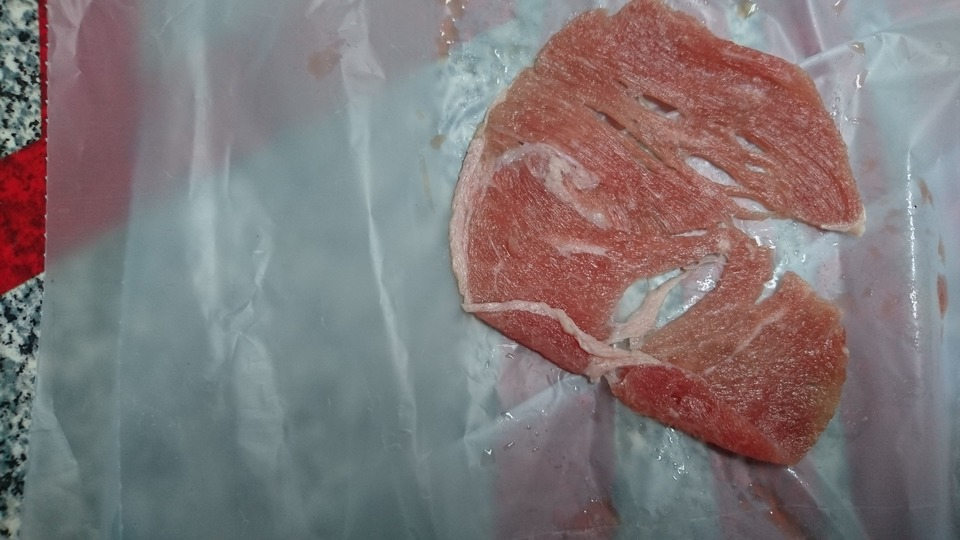restructured meat: (438, 13, 875, 458)
